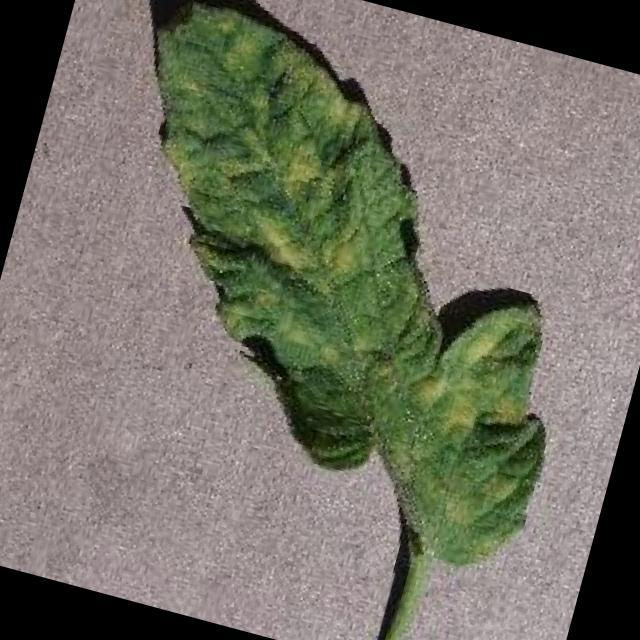Tomato mold leaf: (41, 0, 637, 583)
